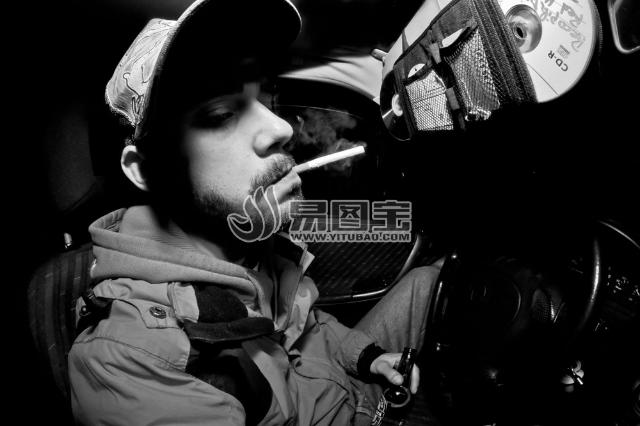Cigarette: (296, 144, 364, 176)
